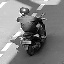motor: (15, 6, 49, 55)
